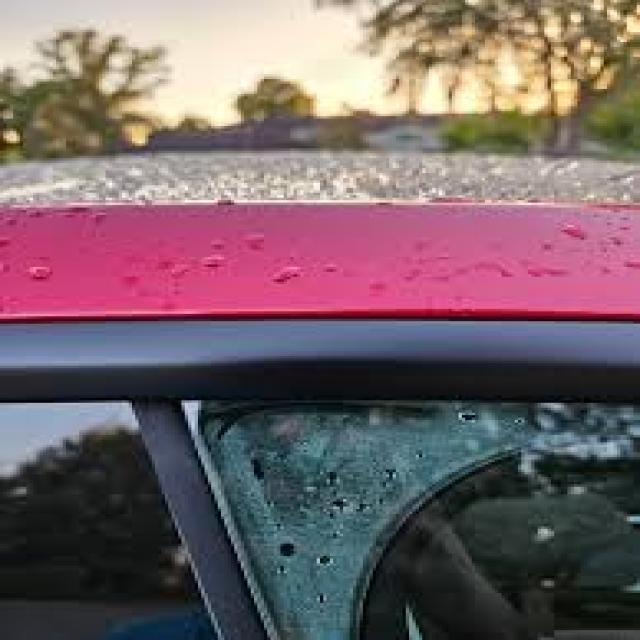raindrop: (554, 210, 598, 250), (267, 261, 313, 291), (24, 254, 60, 291), (195, 248, 233, 280)
